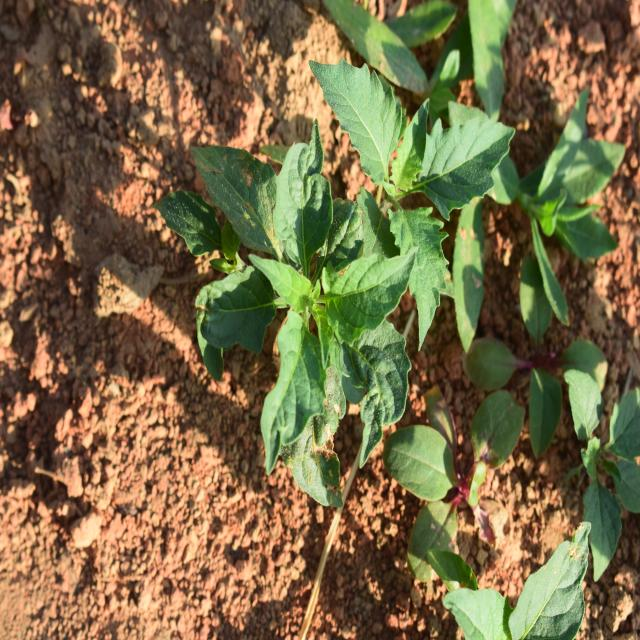Black_nightshade: (188, 132, 402, 470), (321, 46, 496, 326)
